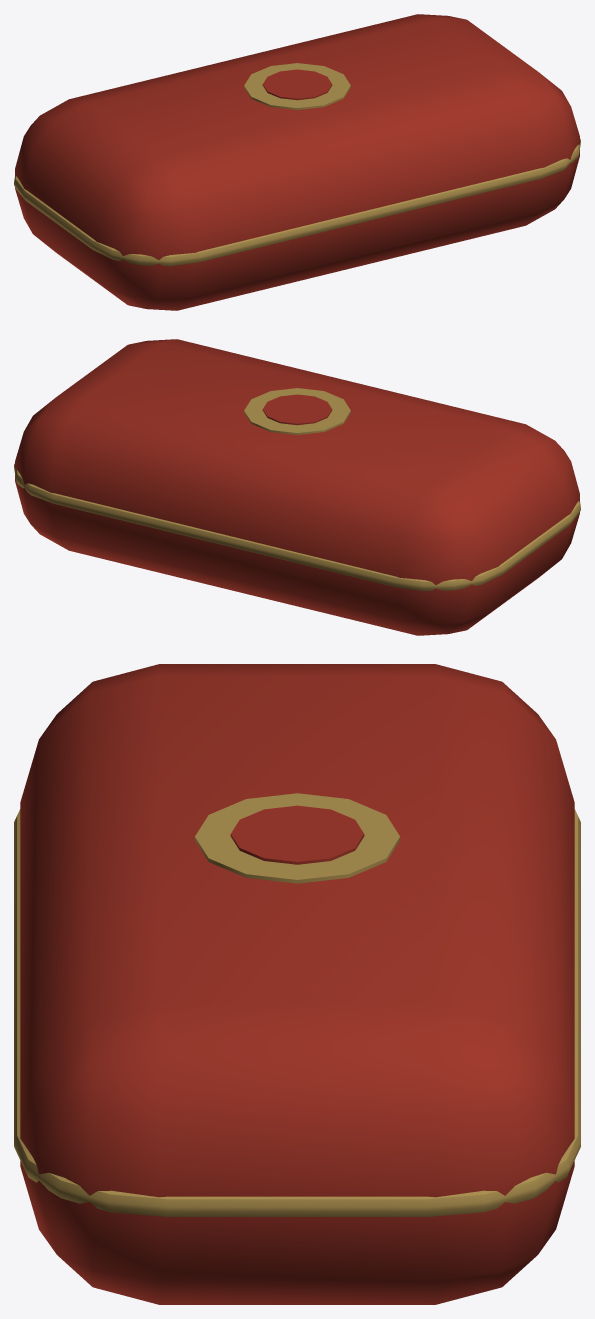
File: acu-pulse-cushion.glb
The picture shows the model from 3 angles, top to bottom: view 1: azimuth 30°, elevation 25°; view 2: azimuth 150°, elevation 25°; view 3: azimuth 270°, elevation 25°; orthographic projection. The views are drawn at different scales.
Visible parts, largest first — view 1: acu-pulse-cushion; view 2: acu-pulse-cushion; view 3: acu-pulse-cushion.
Boxes of the visible parts, left/top/right/bottom form: acu-pulse-cushion: left=14, top=14, right=580, bottom=310; acu-pulse-cushion: left=14, top=339, right=580, bottom=635; acu-pulse-cushion: left=14, top=664, right=580, bottom=1304.
Bounding box in the file's own units: 0.2075 × 0.0634 × 0.1105.
